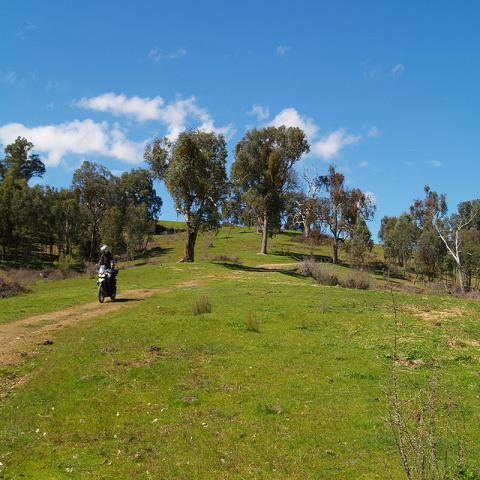motorcycle: (97, 253, 118, 304)
